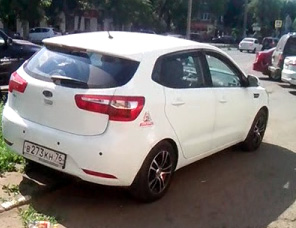car license plate: (23, 140, 66, 172)
